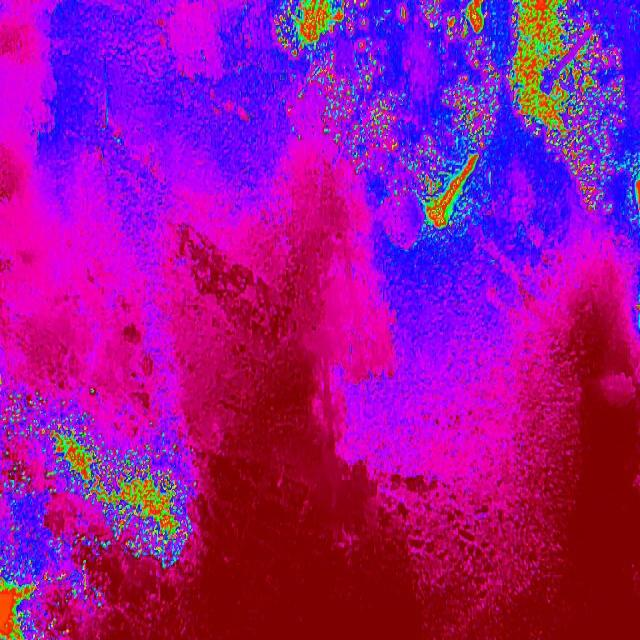fire: (272, 0, 640, 165), (0, 382, 116, 638), (116, 430, 200, 574), (369, 164, 492, 243), (569, 166, 640, 232)
